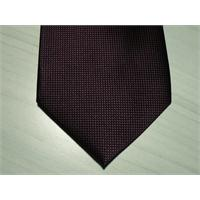tie: (36, 26, 171, 168)
